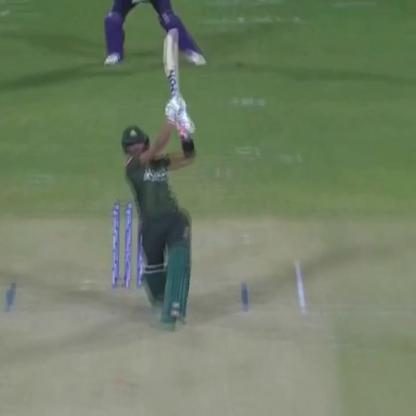bat: (158, 25, 197, 129)
pitch: (1, 261, 347, 413)
